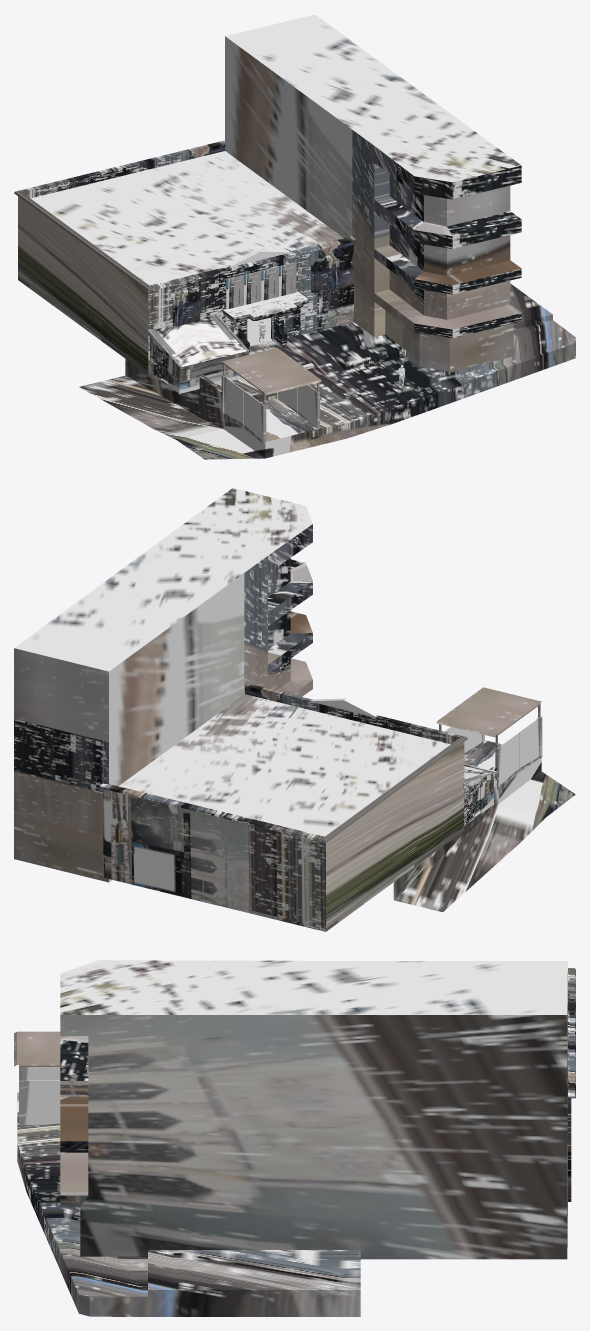
The model's file is hospital_building.fbx.
The picture shows the model from 3 angles, top to bottom: view 1: azimuth 30°, elevation 25°; view 2: azimuth 150°, elevation 25°; view 3: azimuth 270°, elevation 25°; orthographic projection. The views are drawn at different scales.
Visible parts, largest first — view 1: Seitengebäude, Hospital_außen, Terrain, Apotheke, Kleines_Dach, Eingang, Fenster_front, Cube.005, Gate.001, Gate; view 2: Seitengebäude, Hospital_außen, Terrain, Kleines_Dach, Gate.001, Apotheke; view 3: Seitengebäude, Terrain, Gate, Kleines_Dach, Hospital_außen, Gate.001.
Part boxes in pixels (x1,y1,x2,y2): Seitengebäude: (225, 14, 521, 371); Hospital_außen: (14, 140, 355, 375); Terrain: (79, 283, 575, 459); Apotheke: (147, 313, 248, 393); Kleines_Dach: (222, 347, 321, 405); Eingang: (220, 291, 309, 353); Fenster_front: (226, 262, 296, 309); Cube.005: (172, 255, 339, 326); Gate.001: (221, 375, 266, 443); Gate: (276, 385, 319, 428); Seitengebäude: (14, 488, 312, 882); Hospital_außen: (99, 684, 467, 931); Terrain: (393, 740, 575, 912); Kleines_Dach: (436, 687, 541, 748); Gate.001: (495, 716, 542, 789); Apotheke: (463, 763, 498, 825); Seitengebäude: (60, 960, 567, 1259); Terrain: (17, 1092, 360, 1316); Gate: (19, 1080, 68, 1125); Kleines_Dach: (14, 1031, 69, 1081); Hospital_außen: (568, 968, 575, 1201); Gate.001: (19, 1065, 60, 1080).
Size of the model in its own units: 3076 by 1765 by 3147.
